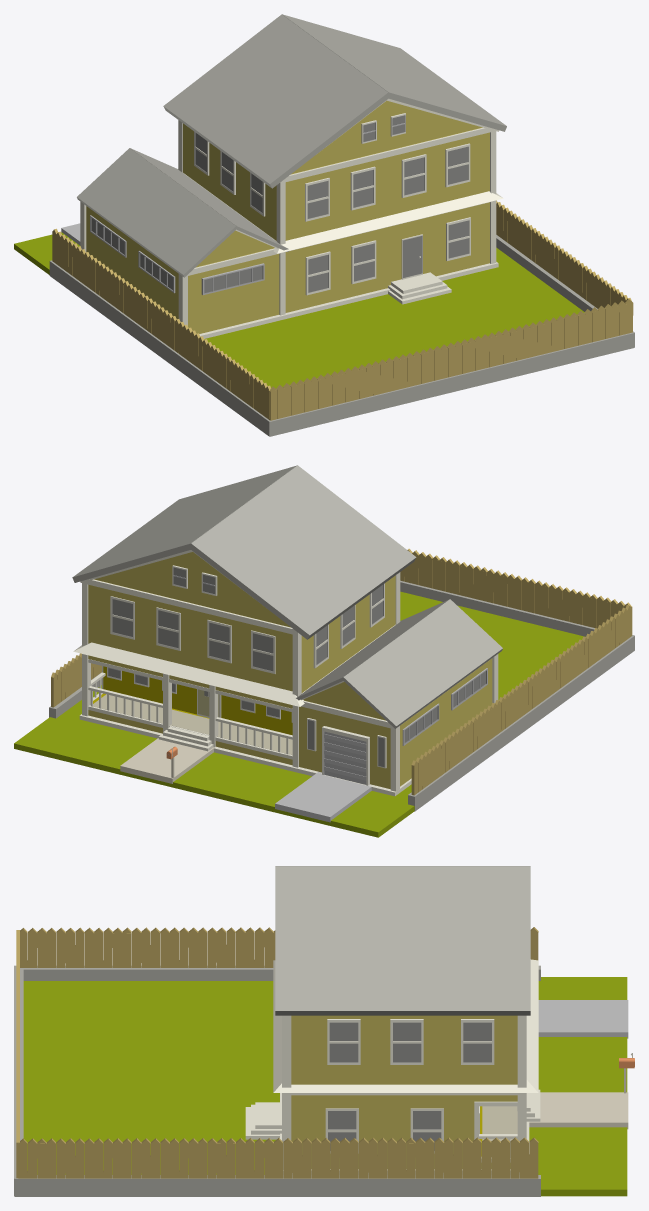
The model's file is house4.fbx.
3 renders of one model, top to bottom at view 1: azimuth 30°, elevation 25°; view 2: azimuth 150°, elevation 25°; view 3: azimuth 270°, elevation 25°, orthographic. The views are drawn at different scales.
Parts seen in each view (by area): view 1: Cube_27; view 2: Cube_27; view 3: Cube_27.
Boxes of the visible parts, x1,y1,x2,y2 form: Cube_27: [14, 14, 634, 436]; Cube_27: [14, 465, 634, 837]; Cube_27: [14, 866, 634, 1196].
Size of the model in its own units: 2228 by 1219 by 2738.
